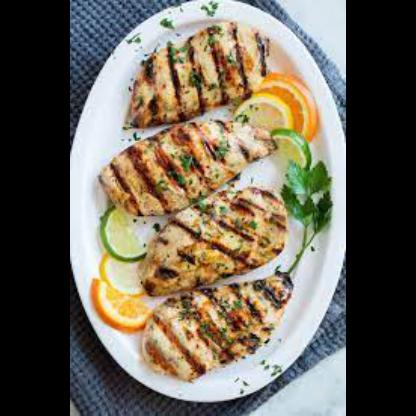grilled chicken breast: (100, 121, 274, 217), (142, 272, 292, 382), (140, 186, 286, 294), (123, 24, 267, 127)
